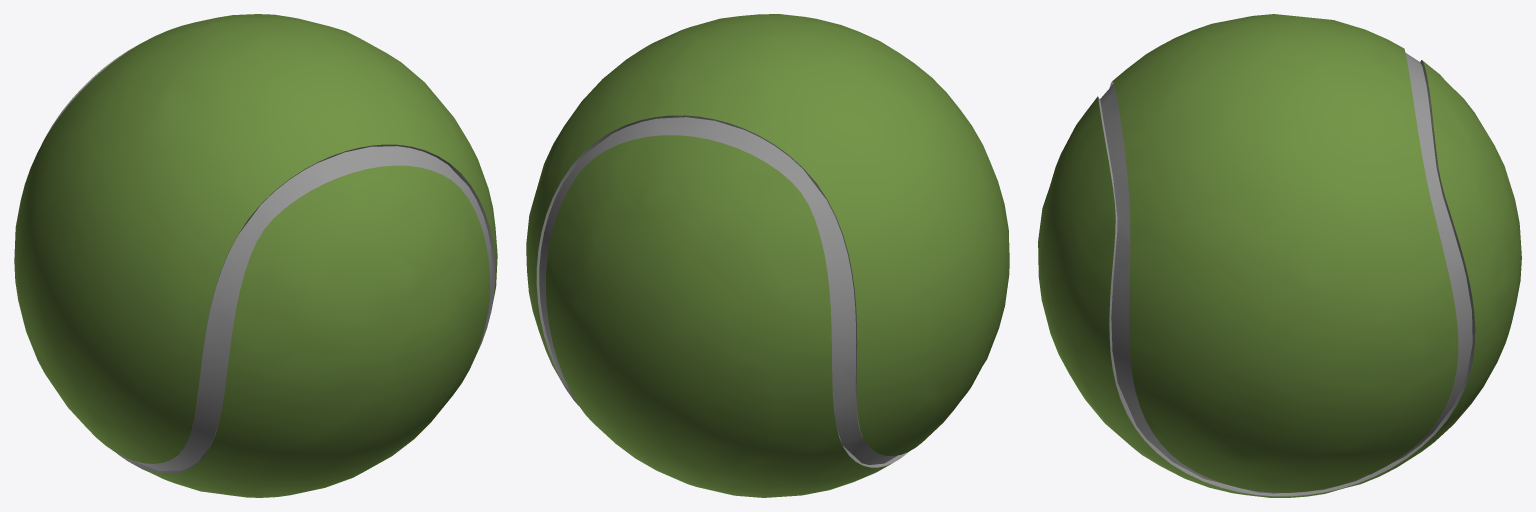
File: tennisBall.FBX
3 renders of one model, left to right at view 1: azimuth 30°, elevation 25°; view 2: azimuth 150°, elevation 25°; view 3: azimuth 270°, elevation 25°, orthographic.
Visible parts, largest first — view 1: TennisBall; view 2: TennisBall; view 3: TennisBall.
Boxes of the visible parts, x1,y1,x2,y2 form: TennisBall: (14, 14, 497, 497); TennisBall: (526, 14, 1009, 497); TennisBall: (1038, 14, 1521, 497).
Size of the model in its own units: 229 by 229 by 230.
